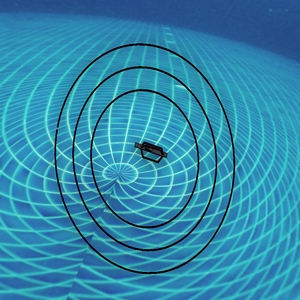submarine: (133, 140, 167, 163)
